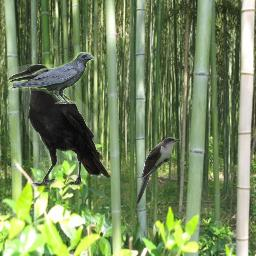Crow: (7, 64, 111, 188), (8, 52, 95, 104)
Cuckoo: (134, 136, 181, 206)
